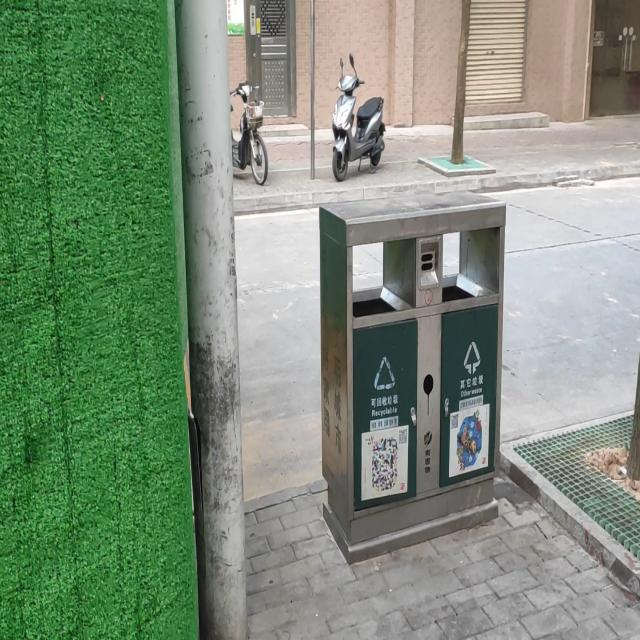ash bin: (316, 196, 510, 557)
motorbike: (327, 51, 389, 180), (222, 76, 274, 192)
pole: (176, 6, 250, 640), (308, 9, 316, 179)
